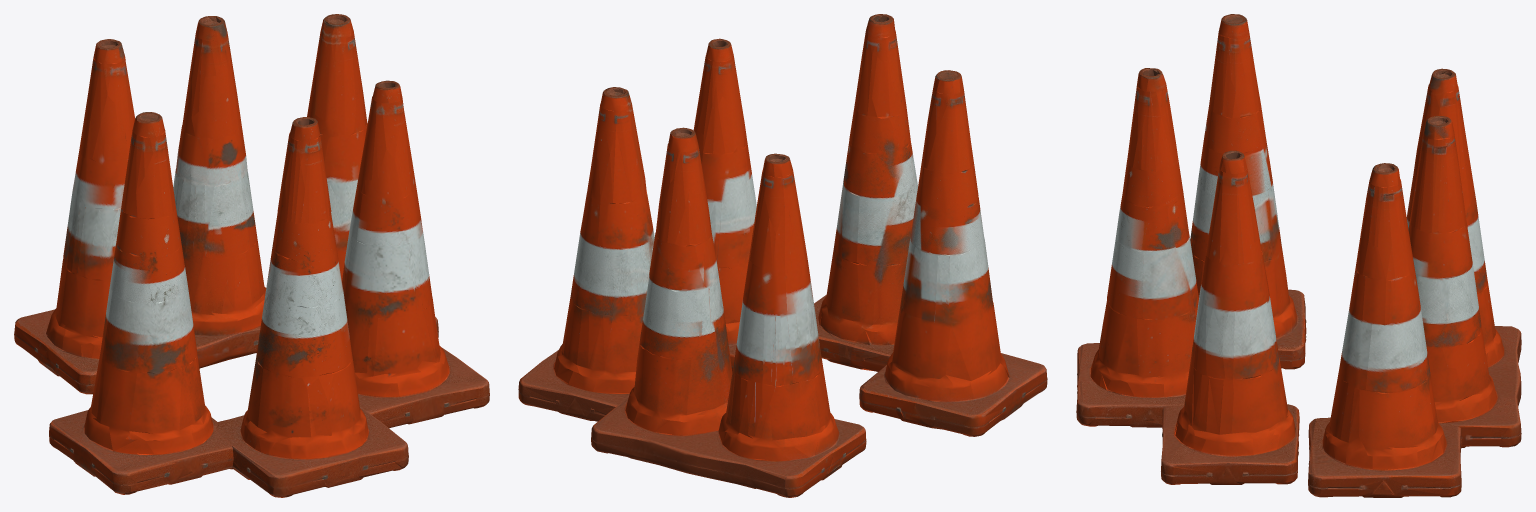
3 views of the same model, side by side, from view 1: azimuth 30°, elevation 25°; view 2: azimuth 150°, elevation 25°; view 3: azimuth 270°, elevation 25° (orthographic). The views are drawn at different scales.
Bounding box in the file's own units: 1.9 × 1.52 × 1.89.
1 material, 1 textured.
